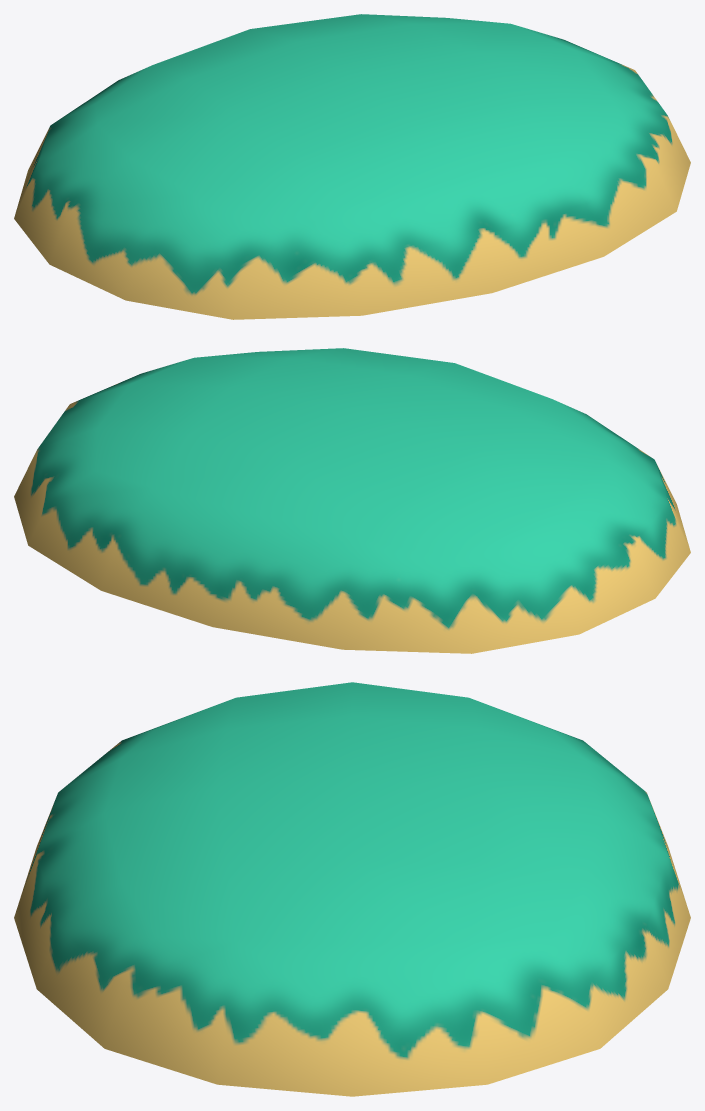
The model's file is Islet003.fbx.
The picture shows the model from 3 angles, top to bottom: view 1: azimuth 30°, elevation 25°; view 2: azimuth 150°, elevation 25°; view 3: azimuth 270°, elevation 25°; orthographic projection. The views are drawn at different scales.
Parts seen in each view (by area): view 1: kojima3; view 2: kojima3; view 3: kojima3.
Boxes of the visible parts, x1=… form: kojima3: x1=14, y1=14, x2=690, y2=319; kojima3: x1=14, y1=348, x2=690, y2=653; kojima3: x1=14, y1=682, x2=690, y2=1096.
Bounding box in the file's own units: 5.3 × 0.9597 × 4.24.
1 material, 1 textured.
